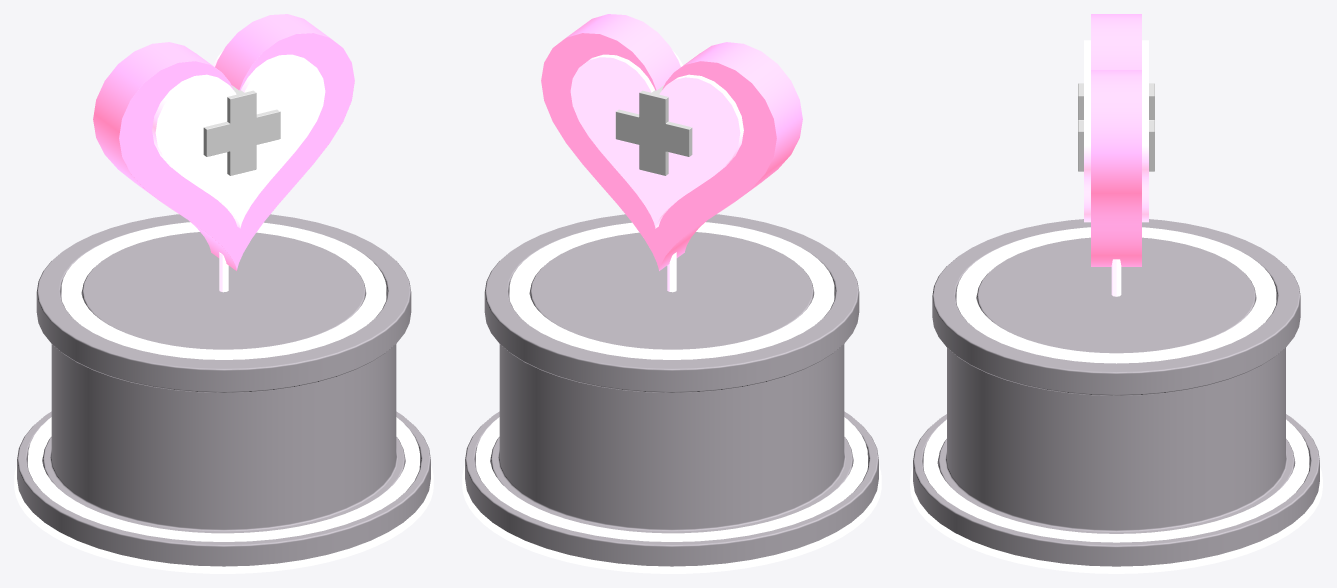
Rendered from Lobby_PED_Heart.fbx.
3 views of the same model, side by side, from view 1: azimuth 30°, elevation 25°; view 2: azimuth 150°, elevation 25°; view 3: azimuth 270°, elevation 25° (orthographic).
Parts seen in each view (by area): view 1: PedestalMarble__Heart, Glyph_HeartBody__HeartBody, Glyph_HeartHi__HeartInner, PedNeon_Heart__Heart_TopNeon, PedNeon_Heart__Heart_BaseNeon, Glyph_HeartCross__HeartCross, PedNeon_Heart__Heart_BaseNeonEdge; view 2: PedestalMarble__Heart, Glyph_HeartBody__HeartBody, Glyph_HeartHi__HeartInner, PedNeon_Heart__Heart_TopNeon, PedNeon_Heart__Heart_BaseNeon, Glyph_HeartCross__HeartCross, PedNeon_Heart__Heart_BaseNeonEdge; view 3: PedestalMarble__Heart, Glyph_HeartBody__HeartBody, PedNeon_Heart__Heart_TopNeon, PedNeon_Heart__Heart_BaseNeon, PedNeon_Heart__Heart_BaseNeonEdge, Glyph_HeartHi__HeartInner, Glyph_HeartCross__HeartCross.
Boxes of the visible parts, <box> form: PedestalMarble__Heart: <box>17,214,430,566</box>; Glyph_HeartBody__HeartBody: <box>93,14,354,270</box>; Glyph_HeartHi__HeartInner: <box>152,50,325,228</box>; PedNeon_Heart__Heart_TopNeon: <box>61,222,386,359</box>; PedNeon_Heart__Heart_BaseNeon: <box>28,417,419,541</box>; Glyph_HeartCross__HeartCross: <box>203,85,280,175</box>; PedNeon_Heart__Heart_BaseNeonEdge: <box>14,465,433,573</box>; PedestalMarble__Heart: <box>465,214,878,566</box>; Glyph_HeartBody__HeartBody: <box>541,14,802,270</box>; Glyph_HeartHi__HeartInner: <box>570,50,743,228</box>; PedNeon_Heart__Heart_TopNeon: <box>509,222,834,359</box>; PedNeon_Heart__Heart_BaseNeon: <box>476,417,867,541</box>; Glyph_HeartCross__HeartCross: <box>615,85,692,175</box>; PedNeon_Heart__Heart_BaseNeonEdge: <box>462,465,881,573</box>; PedestalMarble__Heart: <box>913,219,1319,566</box>; Glyph_HeartBody__HeartBody: <box>1091,14,1141,266</box>; PedNeon_Heart__Heart_TopNeon: <box>956,227,1276,363</box>; PedNeon_Heart__Heart_BaseNeon: <box>923,419,1309,542</box>; PedNeon_Heart__Heart_BaseNeonEdge: <box>910,467,1322,573</box>; Glyph_HeartHi__HeartInner: <box>1084,40,1148,222</box>; Glyph_HeartCross__HeartCross: <box>1078,83,1154,171</box>.
Bounding box in the file's own units: 4.26 × 5.01 × 4.26.
